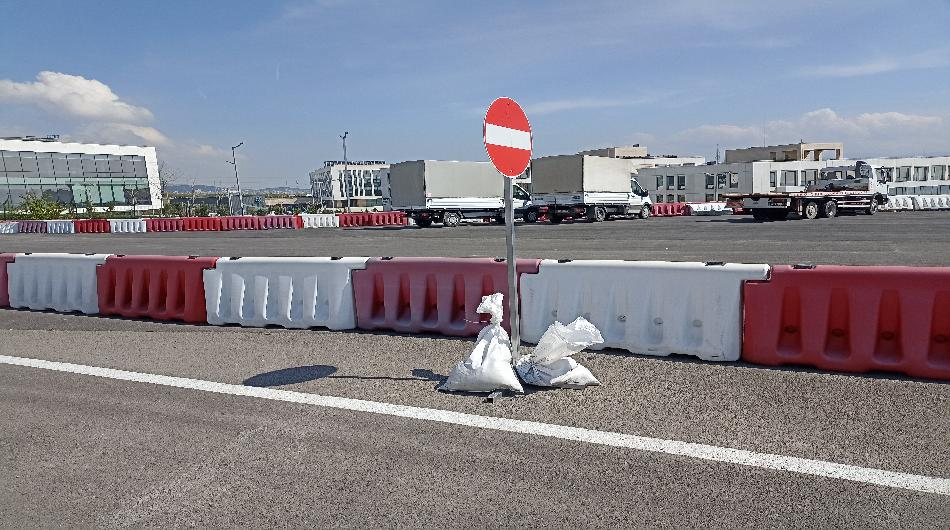girilmez: (481, 94, 541, 184)
